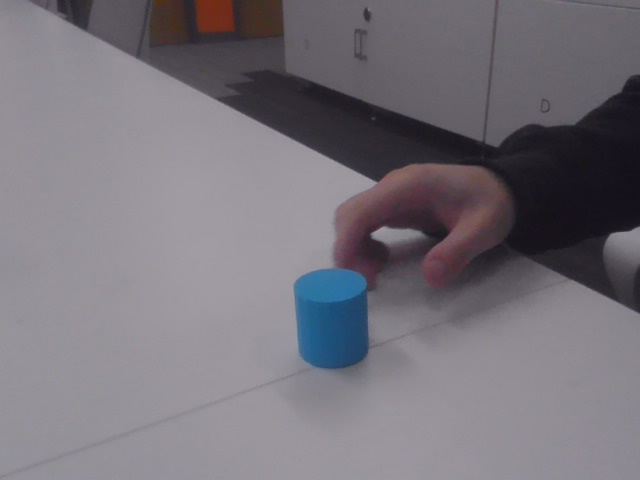cylinder: (294, 269, 367, 368)
